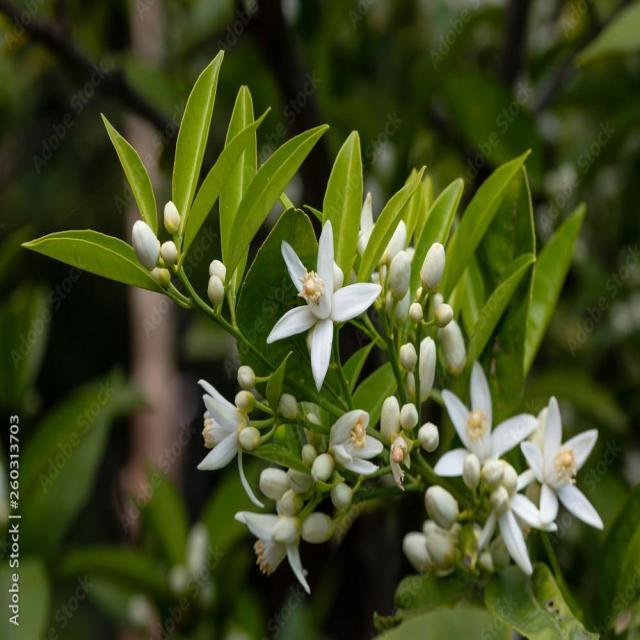Bunga: (274, 226, 370, 385), (524, 400, 606, 539), (442, 362, 530, 474), (236, 511, 310, 596), (193, 376, 253, 475), (331, 408, 382, 482), (407, 340, 438, 400), (425, 484, 458, 532), (133, 218, 158, 270), (424, 530, 452, 572), (388, 434, 409, 490), (421, 242, 443, 294), (388, 252, 411, 300), (302, 512, 336, 542), (380, 396, 400, 444), (404, 530, 428, 568), (275, 513, 300, 545), (274, 484, 300, 514), (260, 469, 286, 495), (314, 451, 336, 481), (498, 460, 516, 493), (482, 458, 500, 488), (400, 403, 420, 428), (466, 453, 480, 488), (238, 428, 262, 448), (398, 340, 414, 370), (421, 426, 438, 453), (280, 394, 298, 419), (332, 482, 349, 508), (209, 261, 227, 283), (164, 204, 178, 232), (208, 278, 224, 302), (162, 241, 177, 265), (235, 390, 253, 410), (238, 366, 254, 386), (408, 302, 422, 324), (438, 305, 451, 328), (492, 492, 504, 510)
